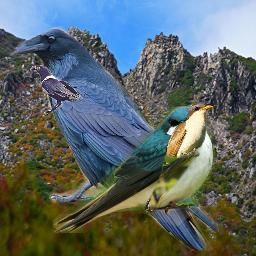Crow: (12, 26, 219, 251), (30, 65, 83, 115)
Cuckoo: (142, 101, 217, 216)
Swallow: (53, 106, 215, 233)
